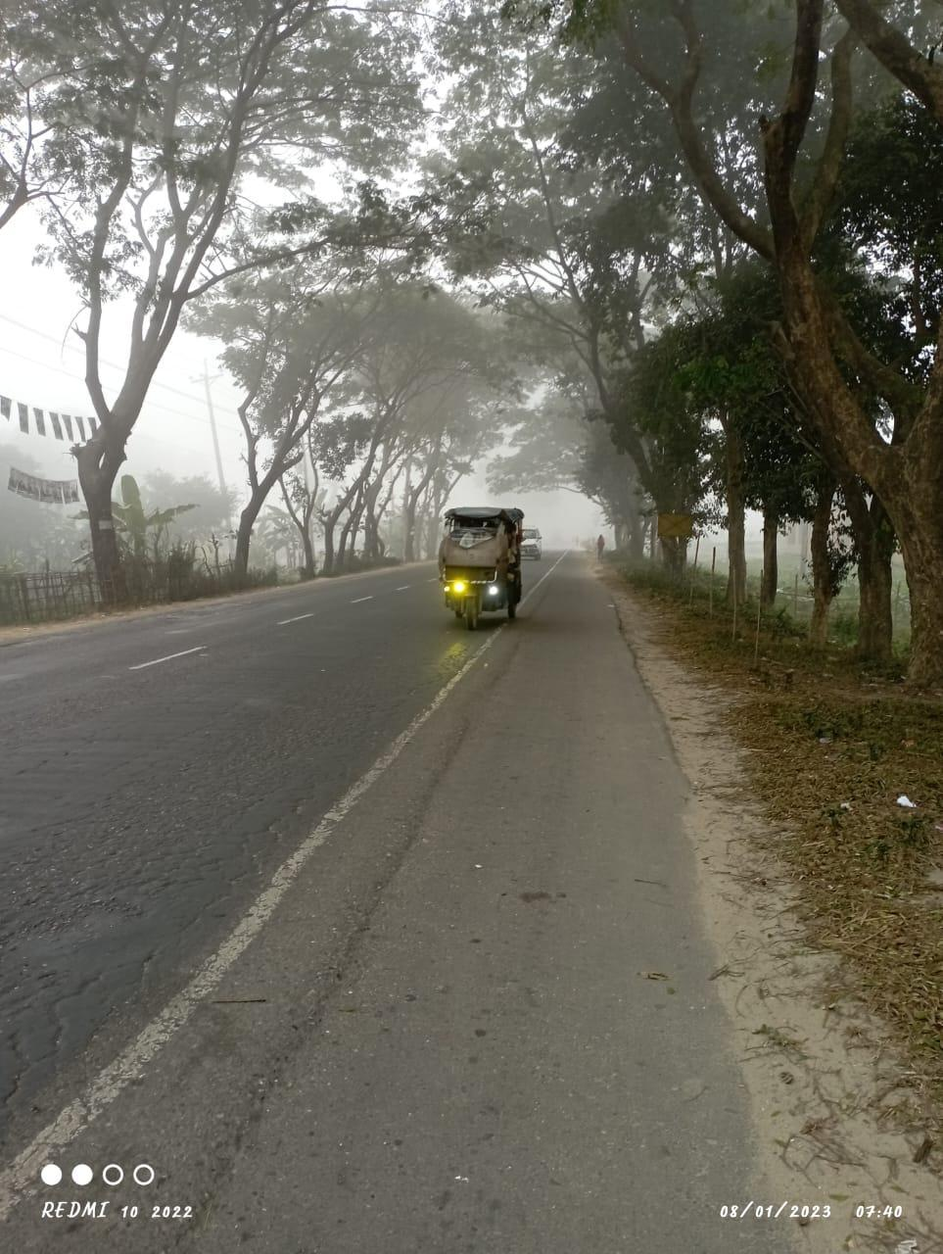Car: (421, 495, 530, 630), (521, 517, 548, 572)
